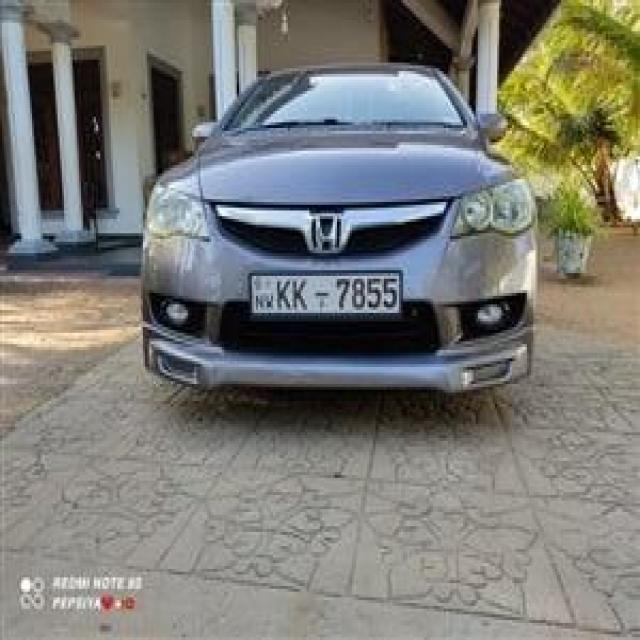license-plate: (247, 267, 397, 310)
